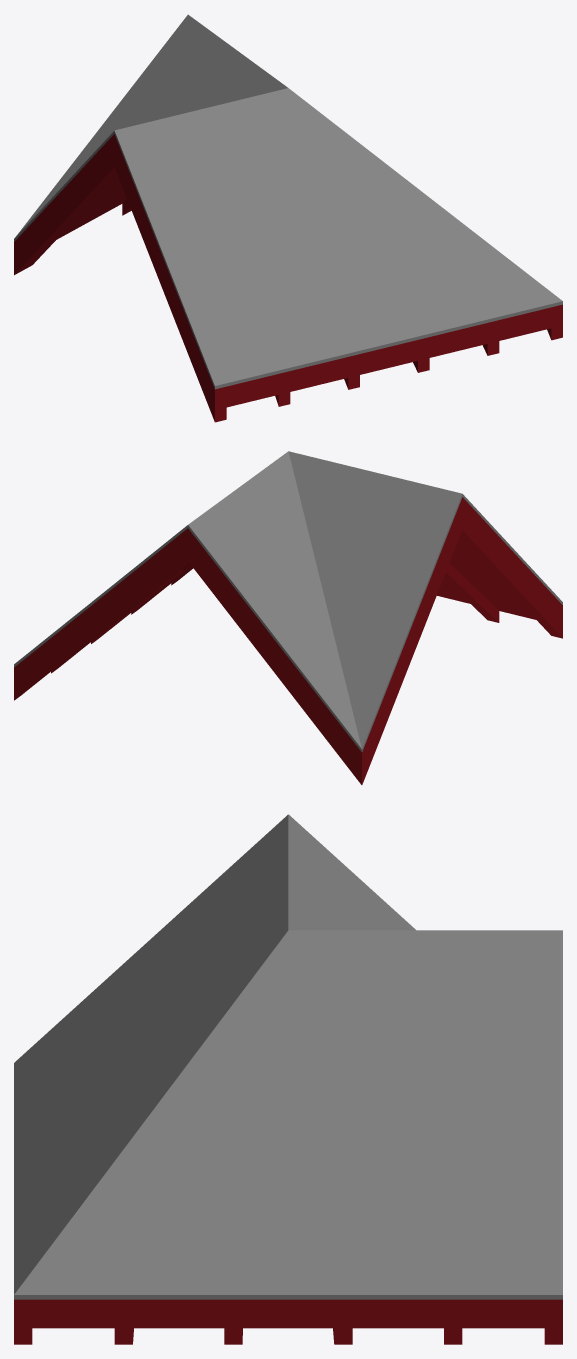
Rendered from SM_MH_01_Slate_Roof_Top_Corner_01.fbx.
3 renders of one model, top to bottom at view 1: azimuth 30°, elevation 25°; view 2: azimuth 150°, elevation 25°; view 3: azimuth 270°, elevation 25°, orthographic. The views are drawn at different scales.
Parts seen in each view (by area): view 1: SM_MH_01_Slate_Roof_Top_Corner_01_LOD0; view 2: SM_MH_01_Slate_Roof_Top_Corner_01_LOD0; view 3: SM_MH_01_Slate_Roof_Top_Corner_01_LOD0.
Part boxes in pixels (bbox=[...]): SM_MH_01_Slate_Roof_Top_Corner_01_LOD0: bbox=[14, 14, 562, 422]; SM_MH_01_Slate_Roof_Top_Corner_01_LOD0: bbox=[14, 451, 562, 784]; SM_MH_01_Slate_Roof_Top_Corner_01_LOD0: bbox=[14, 814, 562, 1344].
Size of what is drawn, in the model's own units: 300 by 180 by 300.
